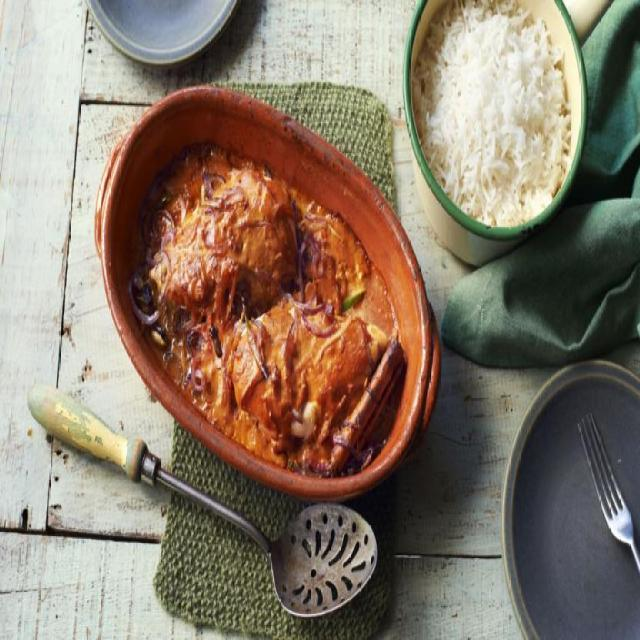chicken: (128, 134, 411, 465)
rice: (419, 4, 579, 230)
